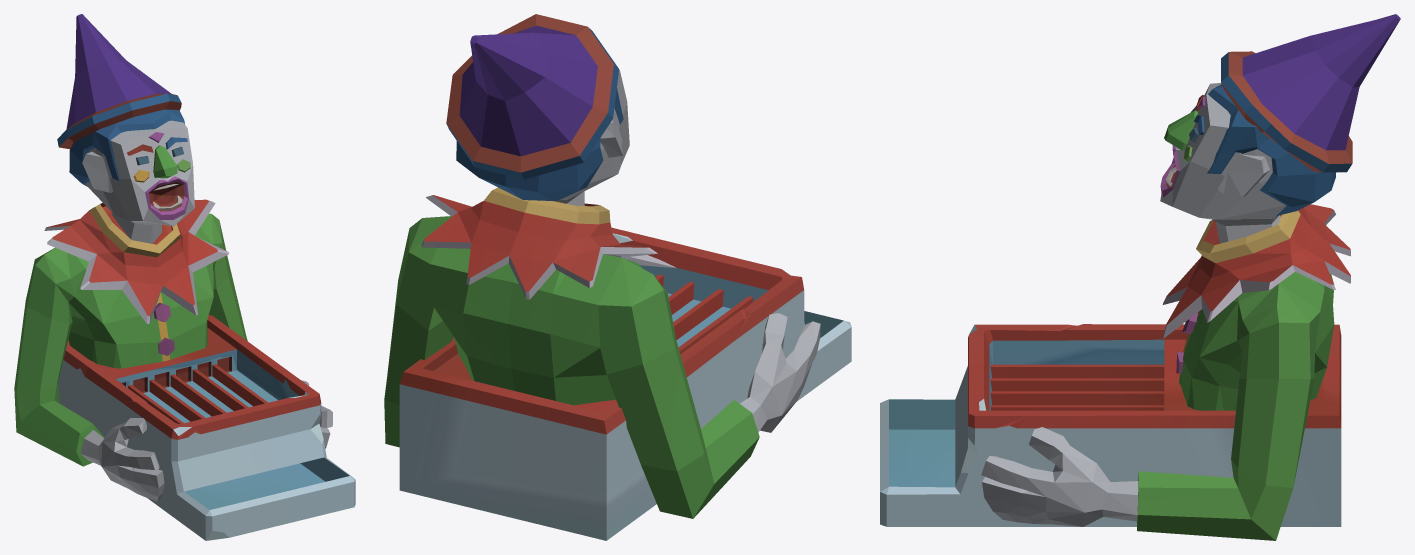
The model's file is SM_Prop_Laughing_Clown_01.glb.
3 views of the same model, side by side, from view 1: azimuth 30°, elevation 25°; view 2: azimuth 150°, elevation 25°; view 3: azimuth 270°, elevation 25° (orthographic). The views are drawn at different scales.
Visible parts, largest first — view 1: SM_Prop_Laughing_Clown_01; view 2: SM_Prop_Laughing_Clown_01; view 3: SM_Prop_Laughing_Clown_01.
Boxes of the visible parts, x1,y1,x2,y2 form: SM_Prop_Laughing_Clown_01: [14, 14, 355, 540]; SM_Prop_Laughing_Clown_01: [384, 14, 851, 540]; SM_Prop_Laughing_Clown_01: [880, 14, 1400, 540].
Size of the model in its own units: 63.13 by 93.74 by 95.2.
Materials: 1 (1 with a texture image).
